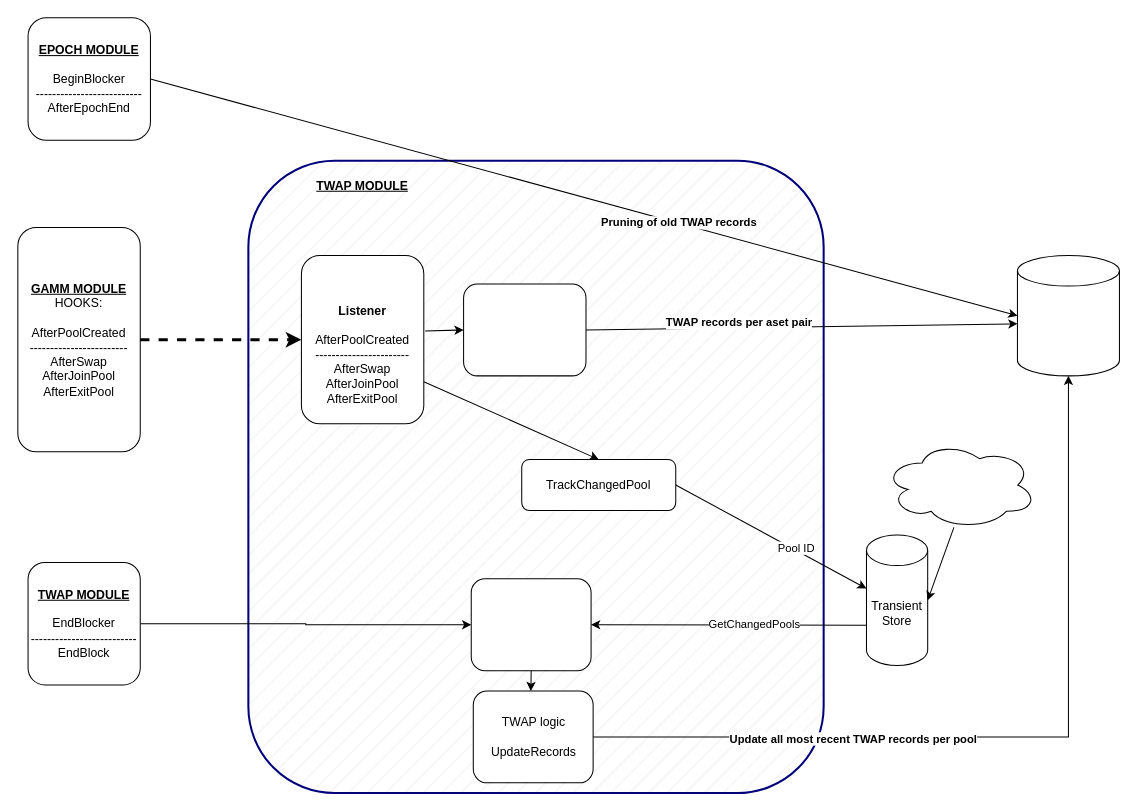
The diagram is 1137 pixels wide and 812 high, and some of its shapes have lost their labels. Each missing label, with the box of its shape:
KVStore: (1016, 254, 1119, 376)
Transient store Is droped affter changes are commited.: (883, 440, 1037, 529)
TWAP logic AfterCreatePool(): (463, 283, 586, 376)
TWAP logic EndBlock: (470, 578, 591, 671)
